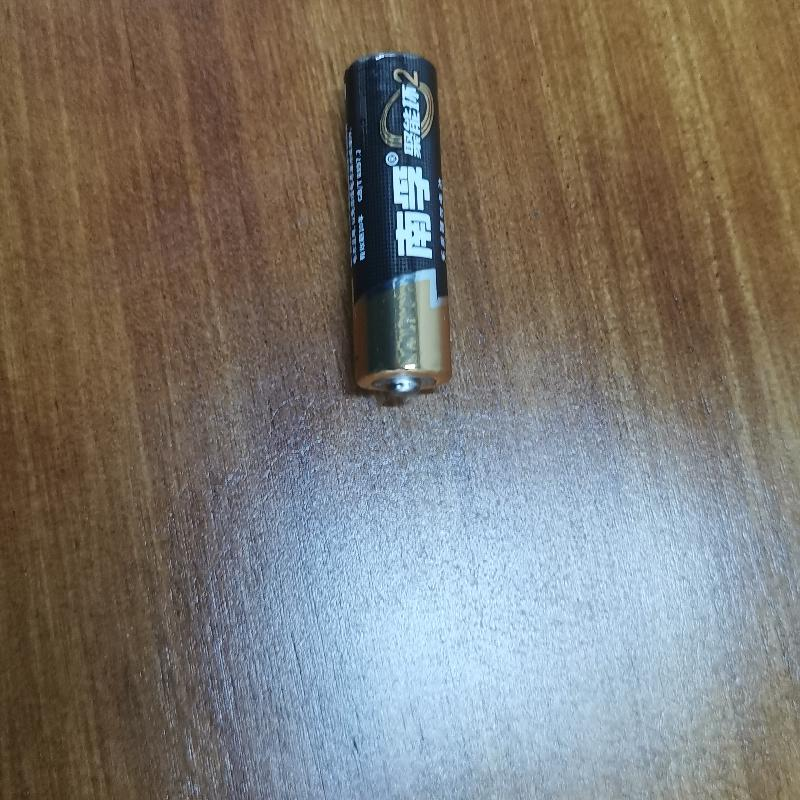battery: (327, 50, 459, 427)
